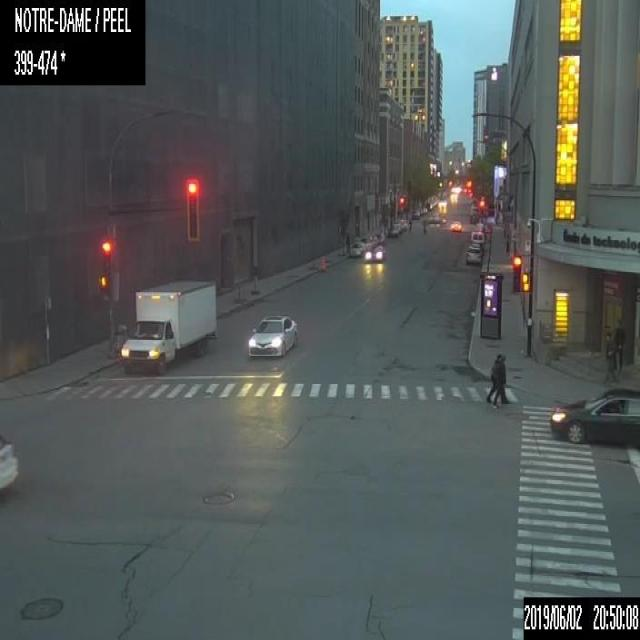pedestrian: (484, 353, 502, 405), (492, 353, 509, 405), (602, 330, 616, 385), (613, 319, 625, 376), (422, 218, 427, 234), (408, 220, 412, 236)
vehicle: (120, 275, 218, 368), (549, 386, 639, 446), (245, 311, 298, 357), (0, 429, 20, 492), (365, 240, 386, 262), (465, 247, 482, 266), (349, 238, 365, 258), (387, 221, 402, 237), (362, 233, 379, 246), (470, 230, 484, 244), (468, 241, 482, 255), (428, 212, 446, 222), (450, 220, 462, 232), (449, 192, 457, 203)
